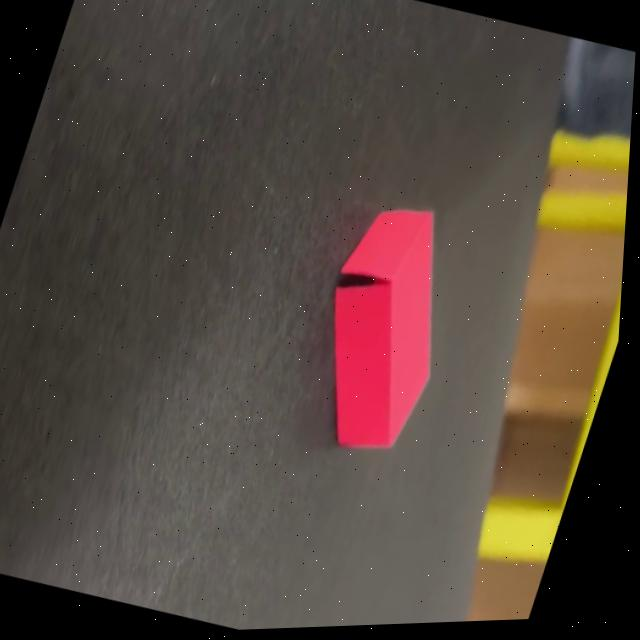red block: (285, 187, 484, 465)
